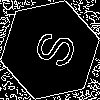S: (25, 25, 78, 71)
